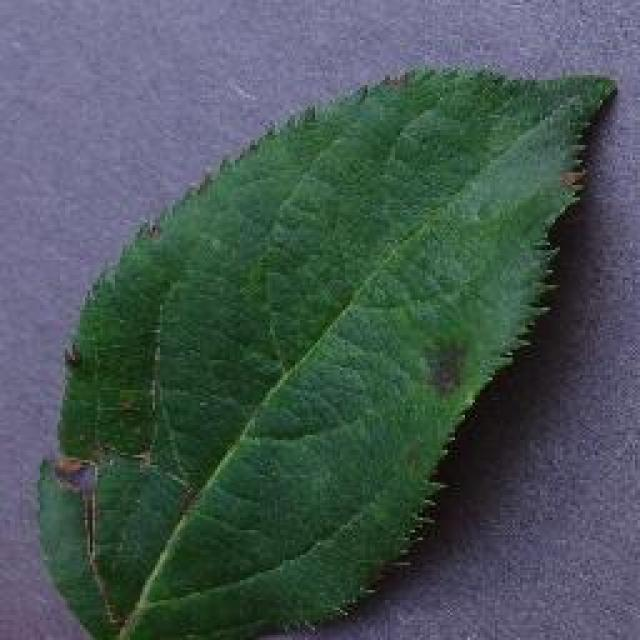apple scab disease: (32, 60, 618, 638)
